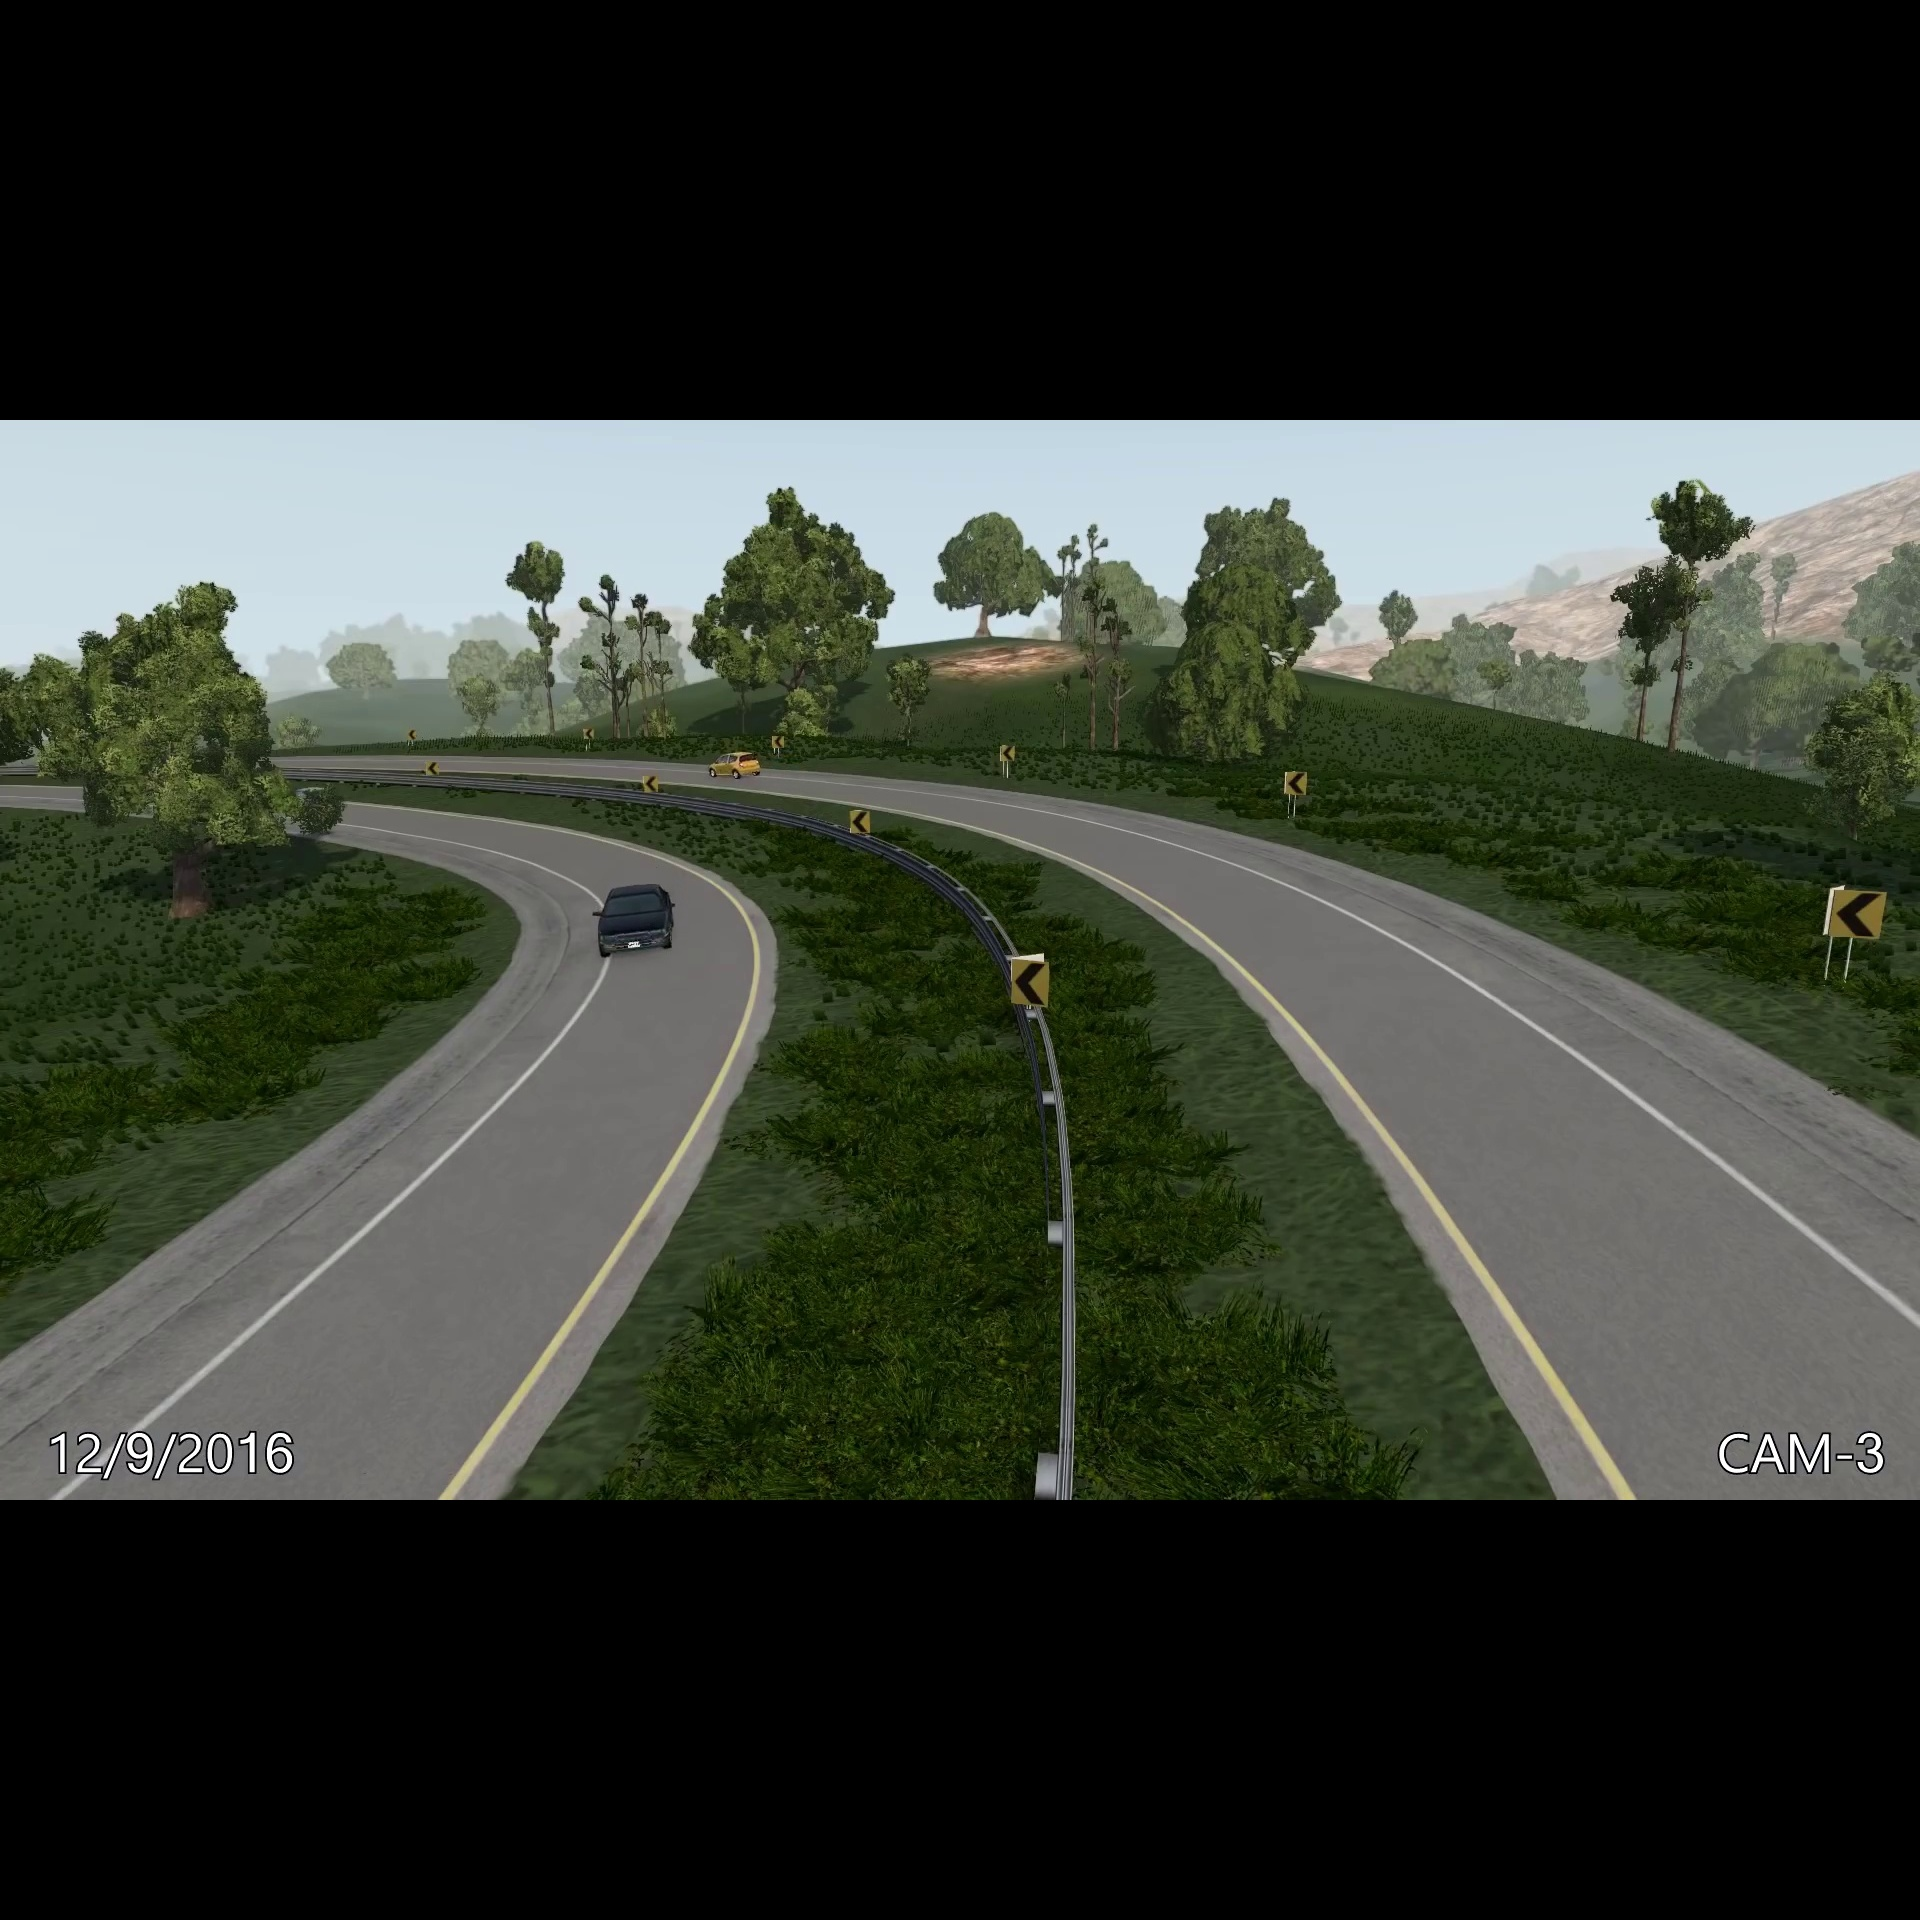vehicle: (593, 877, 682, 962), (702, 747, 763, 782)
